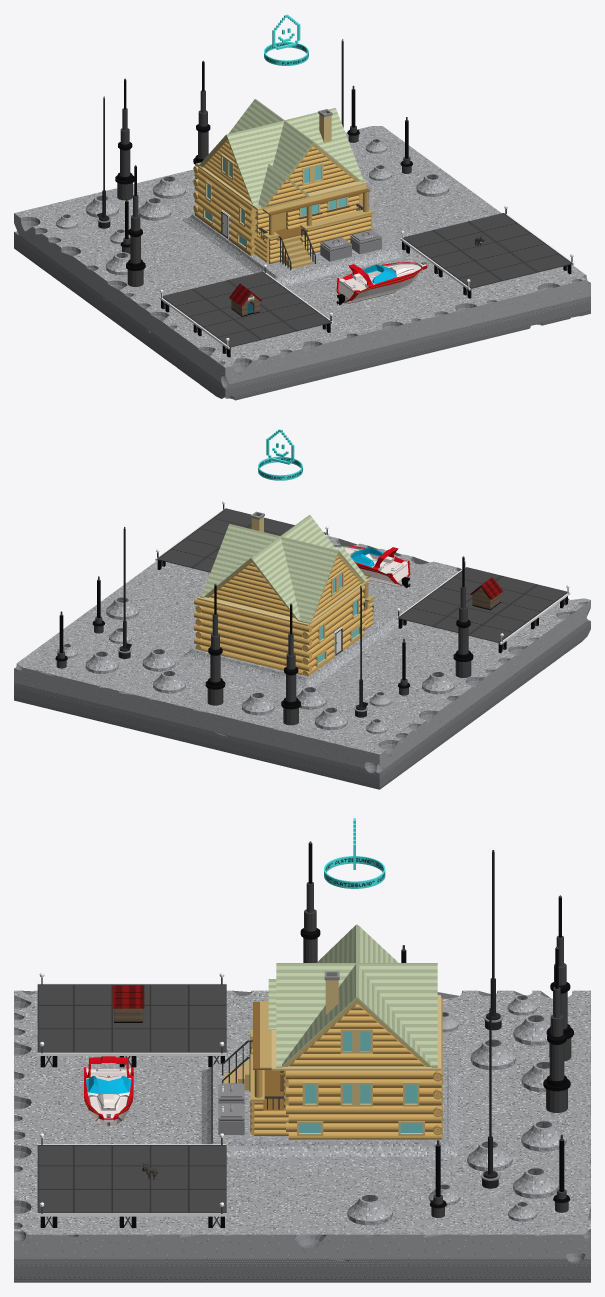
3 views of the same model, one above another, from view 1: azimuth 30°, elevation 25°; view 2: azimuth 150°, elevation 25°; view 3: azimuth 270°, elevation 25° (orthographic). The views are drawn at different scales.
Parts seen in each view (by area): view 1: Cube.027, Cube.1516, Cube.026, Cube.025, Cube.028, VEHICLES_BOAT, Cylinder.021, Cylinder.020, TYPE_PREMIUM, Cylinder.017, OBJRANDOM_DOGHOUSE, Cube.029 (+4 smaller); view 2: Cube.027, Cube.1516, Cube.025, Cube.026, Cube.028, VEHICLES_BOAT, Cylinder.017, Cylinder.021, Cylinder.020, TYPE_PREMIUM, OBJRANDOM_DOGHOUSE, Cylinder.030 (+8 smaller); view 3: Cube.027, Cube.1516, Cube.026, Cube.025, Cube.028, VEHICLES_BOAT, Cylinder.017, Cylinder.020, Cylinder.021, OBJRANDOM_DOGHOUSE, TYPE_PREMIUM, Cylinder.033 (+11 smaller).
Part boxes in pixels (x1,y1,x2,y2): Cube.027: [14, 126, 590, 400]; Cube.1516: [193, 99, 373, 269]; Cube.026: [400, 205, 574, 298]; Cube.025: [159, 264, 333, 357]; Cube.028: [182, 213, 403, 286]; VEHICLES_BOAT: [336, 261, 427, 305]; Cylinder.021: [126, 165, 145, 286]; Cylinder.020: [115, 78, 134, 200]; TYPE_PREMIUM: [264, 14, 308, 65]; Cylinder.017: [193, 60, 210, 178]; OBJRANDOM_DOGHOUSE: [229, 283, 261, 316]; Cube.029: [320, 237, 351, 261]; Cube.027: [14, 536, 590, 789]; Cube.1516: [194, 511, 374, 676]; Cube.025: [396, 560, 570, 653]; Cube.026: [155, 501, 329, 572]; Cube.028: [181, 610, 398, 688]; VEHICLES_BOAT: [334, 545, 410, 587]; Cylinder.017: [205, 583, 225, 705]; Cylinder.021: [453, 556, 473, 677]; Cylinder.020: [281, 603, 300, 725]; TYPE_PREMIUM: [258, 429, 302, 480]; OBJRANDOM_DOGHOUSE: [470, 577, 503, 609]; Cylinder.030: [142, 648, 175, 671]; Cube.027: [14, 990, 590, 1282]; Cube.1516: [222, 924, 442, 1139]; Cube.026: [37, 1133, 226, 1227]; Cube.025: [37, 973, 226, 1067]; Cube.028: [201, 1063, 457, 1156]; VEHICLES_BOAT: [84, 1056, 133, 1126]; Cylinder.017: [543, 946, 570, 1112]; Cylinder.020: [546, 895, 573, 1061]; Cylinder.021: [300, 841, 320, 962]; OBJRANDOM_DOGHOUSE: [112, 985, 144, 1022]; TYPE_PREMIUM: [324, 818, 385, 888]; Cylinder.033: [347, 1194, 392, 1225].
Bounding box in the file's own units: 4000 × 2855 × 4000.
42 materials, 6 textured.
